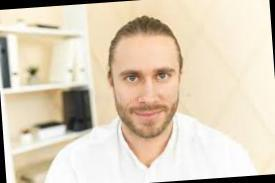Sober: (116, 42, 177, 130)
